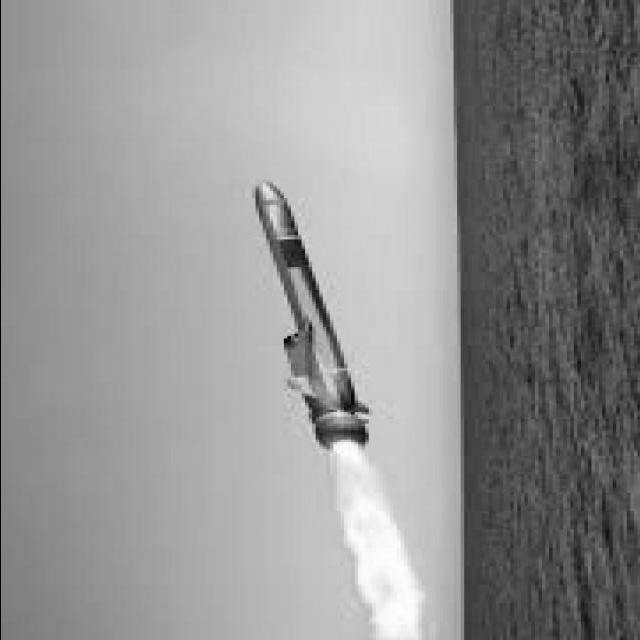Missile: (248, 163, 377, 450)
